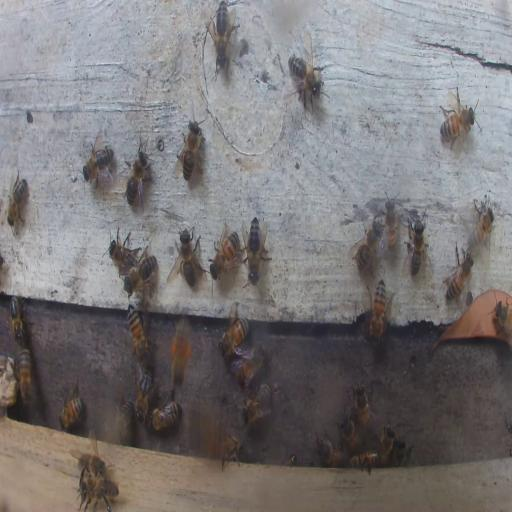bee: (287, 38, 327, 109), (174, 113, 204, 183), (209, 1, 237, 68), (80, 135, 116, 187), (350, 215, 381, 274), (245, 214, 270, 284), (444, 244, 474, 302), (210, 226, 242, 280), (403, 210, 429, 276), (175, 224, 202, 287), (125, 146, 151, 208), (438, 100, 476, 142), (106, 228, 139, 272), (6, 170, 30, 230), (58, 377, 84, 432), (170, 318, 190, 389), (242, 382, 271, 428), (80, 475, 117, 511), (368, 277, 388, 343), (234, 343, 266, 383), (128, 308, 151, 363), (220, 314, 248, 358), (126, 251, 156, 292), (149, 393, 180, 432), (469, 200, 494, 246), (134, 365, 154, 421), (353, 382, 375, 429), (382, 194, 398, 254), (315, 436, 347, 466), (220, 435, 245, 468), (18, 348, 32, 406), (491, 301, 511, 340), (378, 422, 396, 462), (11, 296, 24, 345), (341, 413, 358, 450), (80, 452, 104, 477), (349, 451, 379, 471), (393, 441, 413, 464), (122, 401, 132, 441), (282, 451, 296, 466)
